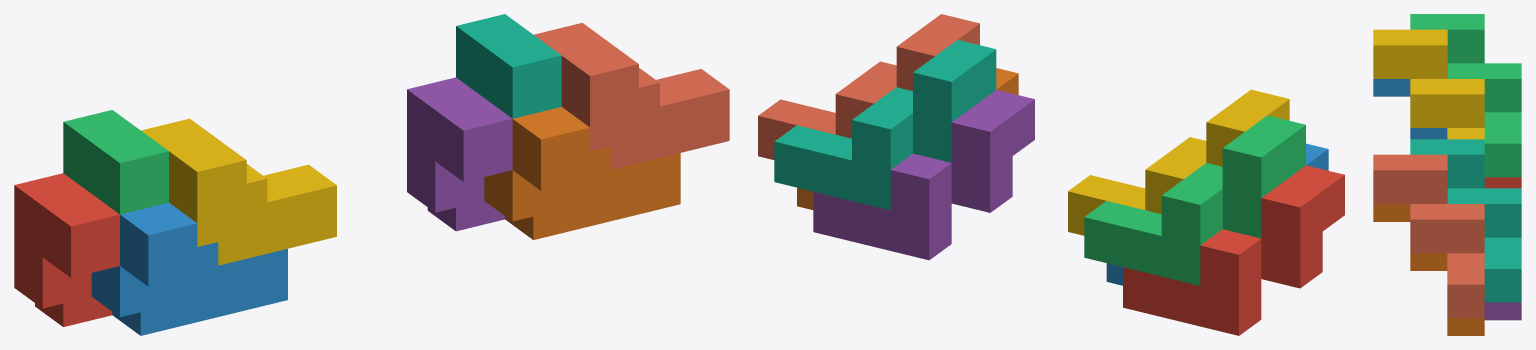
Rendered from tiling.obj.
3 renders of one model, left to right at view 1: azimuth 30°, elevation 25°; view 2: azimuth 150°, elevation 25°; view 3: azimuth 270°, elevation 25°, orthographic. The views are drawn at different scales.
Parts seen in each view (by area): view 1: copy_1_domain_8, copy_1_domain_6, copy_1_domain_2, copy_1_domain_4, copy_1_domain_1, copy_1_domain_5, copy_1_domain_3, copy_1_domain_7; view 2: copy_1_domain_3, copy_1_domain_7, copy_1_domain_1, copy_1_domain_5, copy_1_domain_4, copy_1_domain_8, copy_1_domain_2, copy_1_domain_6; view 3: copy_1_domain_8, copy_1_domain_4, copy_1_domain_3, copy_1_domain_7, copy_1_domain_6, copy_1_domain_2, copy_1_domain_5, copy_1_domain_1.
Boxes of the visible parts, left/top/right/bottom form: copy_1_domain_8: left=534, top=23, right=729, bottom=169; copy_1_domain_6: left=484, top=107, right=680, bottom=239; copy_1_domain_2: left=91, top=202, right=287, bottom=335; copy_1_domain_4: left=141, top=118, right=336, bottom=265; copy_1_domain_1: left=14, top=173, right=119, bottom=326; copy_1_domain_5: left=407, top=77, right=512, bottom=231; copy_1_domain_3: left=63, top=110, right=168, bottom=214; copy_1_domain_7: left=456, top=14, right=561, bottom=118; copy_1_domain_3: left=1084, top=115, right=1305, bottom=285; copy_1_domain_7: left=774, top=40, right=996, bottom=210; copy_1_domain_1: left=1123, top=165, right=1344, bottom=335; copy_1_domain_5: left=813, top=90, right=1034, bottom=260; copy_1_domain_4: left=1068, top=89, right=1289, bottom=235; copy_1_domain_8: left=758, top=14, right=979, bottom=159; copy_1_domain_2: left=1106, top=143, right=1328, bottom=285; copy_1_domain_6: left=797, top=68, right=1018, bottom=209; copy_1_domain_8: left=1373, top=154, right=1484, bottom=317; copy_1_domain_4: left=1373, top=29, right=1484, bottom=139; copy_1_domain_3: left=1410, top=14, right=1521, bottom=177; copy_1_domain_7: left=1410, top=139, right=1521, bottom=302; copy_1_domain_6: left=1373, top=204, right=1484, bottom=335; copy_1_domain_2: left=1373, top=79, right=1447, bottom=139; copy_1_domain_5: left=1484, top=302, right=1521, bottom=320; copy_1_domain_1: left=1484, top=177, right=1521, bottom=188.
Size of the model in its own units: 14 by 4 by 4.
